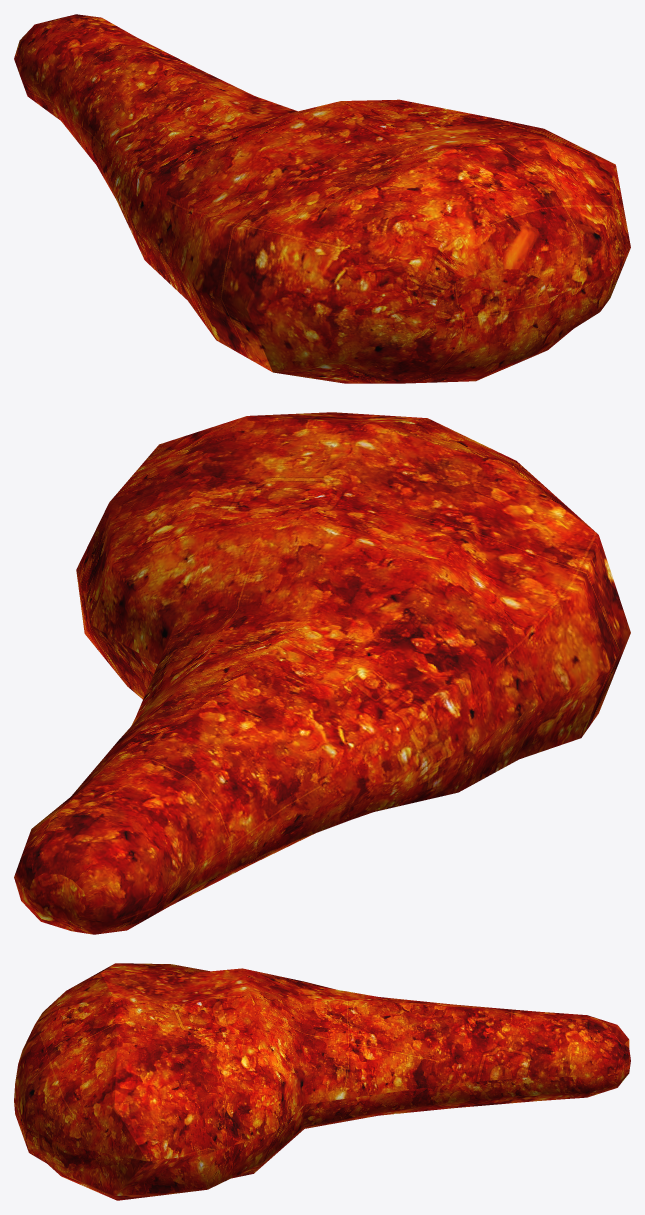
File: friedChicken_Red.FBX
3 views of the same model, one above another, from view 1: azimuth 30°, elevation 25°; view 2: azimuth 150°, elevation 25°; view 3: azimuth 270°, elevation 25° (orthographic). The views are drawn at different scales.
Visible parts, largest first — view 1: Chicken_red; view 2: Chicken_red; view 3: Chicken_red.
Part boxes in pixels (x1=…): Chicken_red: x1=14, y1=14, x2=630, y2=383; Chicken_red: x1=14, y1=412, x2=630, y2=934; Chicken_red: x1=14, y1=963, x2=630, y2=1200.
Bounding box in the file's own units: 21.43 × 11.07 × 35.01.
1 material, 1 textured.
